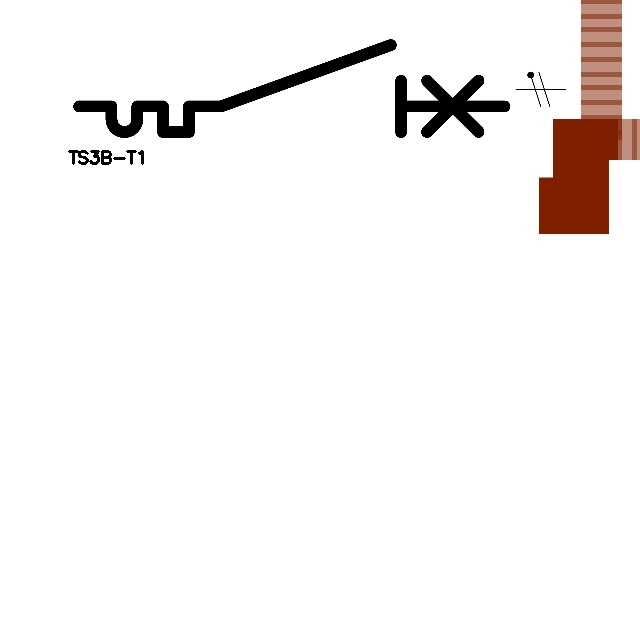interruptor_termomagnetico: (68, 34, 515, 143)
